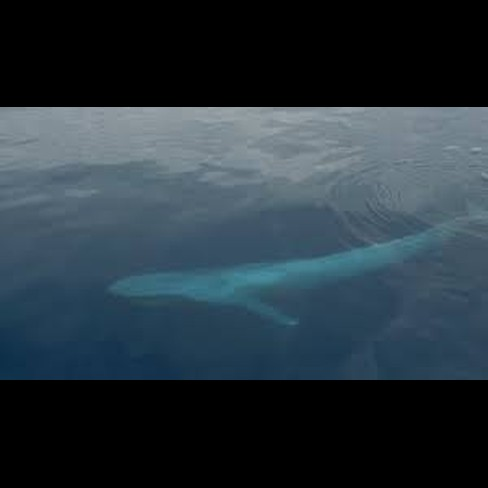bluewhale: (105, 209, 488, 337)
